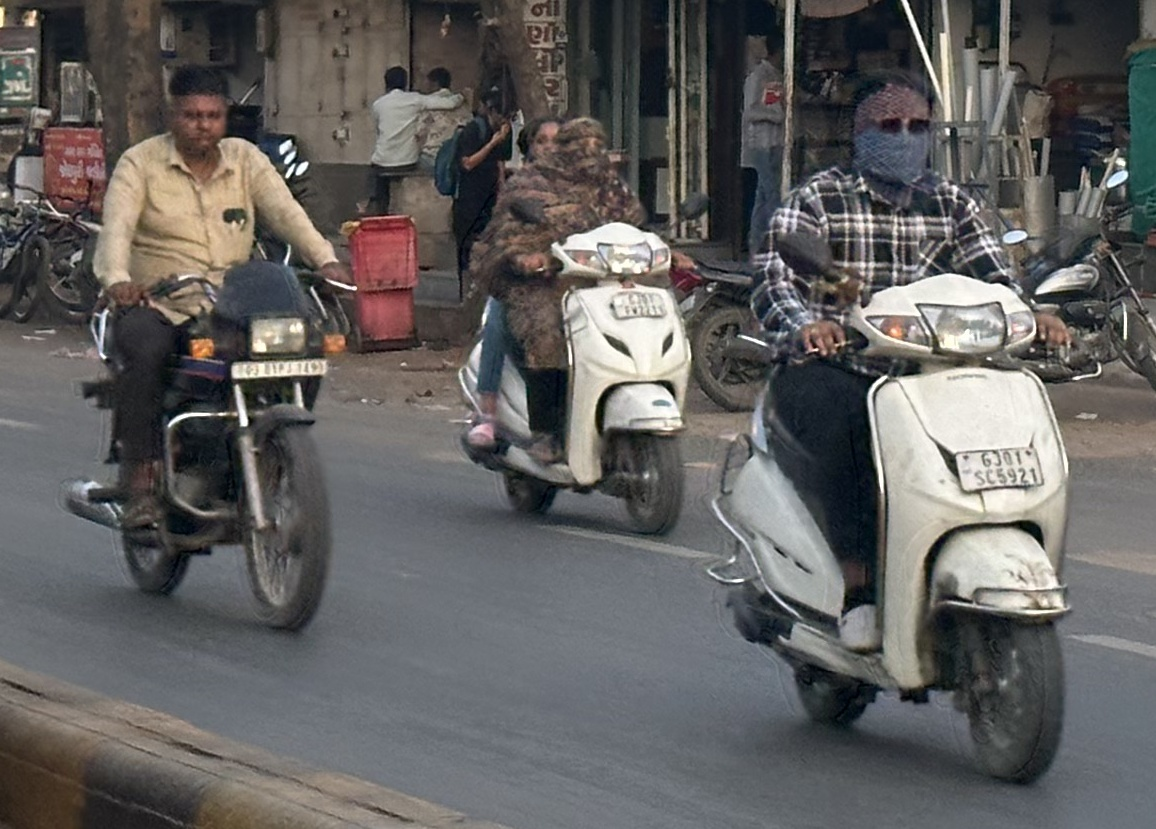BikeWithRider: (695, 63, 1090, 792), (49, 55, 369, 643), (443, 106, 705, 541)
NoHelmet: (837, 69, 951, 191), (150, 57, 245, 162), (552, 111, 618, 177), (520, 112, 578, 173)
